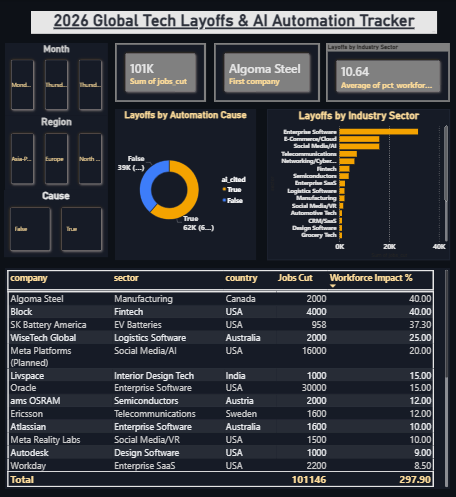

The dashboard page shown, as its layout file describes it:
{"tool":"powerbi","page":{"name":"Page 1","canvas":[1280,1400],"ordinal":0},"visuals":[{"type":"advancedSlicerVisual","title":"Month","fields":{"Values":["cleaned_ai_layoffs.clean_month"]},"box":[14,123.2,288.4,204.4],"z":0},{"type":"advancedSlicerVisual","title":"Region","fields":{"Values":["cleaned_ai_layoffs.region"]},"box":[14,327.6,288.4,207.2],"z":1000},{"type":"advancedSlicerVisual","title":"Cause","fields":{"Values":["cleaned_ai_layoffs.ai_cited"]},"box":[11.2,534.8,291.2,187.6],"z":2000},{"type":"donutChart","title":"Layoffs by Automation Cause","fields":{"Category":["cleaned_ai_layoffs.ai_cited"],"Y":["Sum(cleaned_ai_layoffs.jobs_cut)"]},"box":[322,308,394.8,422.8],"z":3000},{"type":"clusteredBarChart","title":"Layoffs by Industry Sector","fields":{"Category":["cleaned_ai_layoffs.sector"],"Y":["Sum(cleaned_ai_layoffs.jobs_cut)"]},"box":[747.6,308,512.4,422.8],"z":4000},{"type":"cardVisual","fields":{"Data":["Sum(cleaned_ai_layoffs.jobs_cut)"]},"box":[322,123.2,254.8,165.2],"z":5000},{"type":"cardVisual","fields":{"Data":["Min(cleaned_ai_layoffs.company)"]},"box":[599.2,123.2,296.8,165.2],"z":6000},{"type":"cardVisual","title":"Layoffs by Industry Sector","fields":{"Data":["Avg(cleaned_ai_layoffs.pct_workforce_cut)"]},"box":[912.8,123.2,347.2,165.2],"z":7000},{"type":"tableEx","fields":{"Values":["cleaned_ai_layoffs.company","cleaned_ai_layoffs.sector","cleaned_ai_layoffs.country","Sum(cleaned_ai_layoffs.jobs_cut)","Sum(cleaned_ai_layoffs.pct_workforce_cut)"]},"box":[14,753.2,1246,618.8],"z":8000},{"type":"textbox","title":"2026 Global Tech Layoffs & AI Automation Tracker","box":[86.8,33.6,1136.8,64.4],"z":9000}]}

Visuals, with their boxes in screenshot pixels (x1, y1, x2, y2), scaled from the page's 1280x1400 canvas onto the 456x497 screenshot:
"Month" advancedSlicerVisual: left=5, top=44, right=108, bottom=116
"Region" advancedSlicerVisual: left=5, top=116, right=108, bottom=190
"Cause" advancedSlicerVisual: left=4, top=190, right=108, bottom=256
"Layoffs by Automation Cause" donutChart: left=115, top=109, right=255, bottom=259
"Layoffs by Industry Sector" clusteredBarChart: left=266, top=109, right=449, bottom=259
cardVisual - Sum(cleaned_ai_layoffs.jobs_cut): left=115, top=44, right=205, bottom=102
cardVisual - Min(cleaned_ai_layoffs.company): left=213, top=44, right=319, bottom=102
"Layoffs by Industry Sector" cardVisual: left=325, top=44, right=449, bottom=102
tableEx - cleaned_ai_layoffs.company x cleaned_ai_layoffs.sector: left=5, top=267, right=449, bottom=487
"2026 Global Tech Layoffs & AI Automation Tracker" textbox: left=31, top=12, right=436, bottom=35
